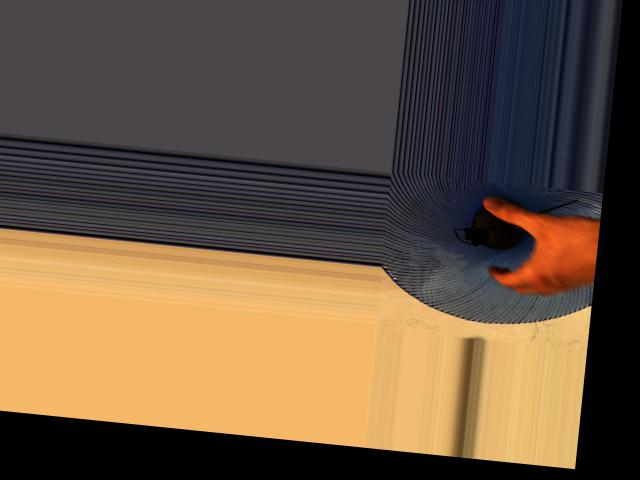beet: (452, 187, 577, 256)
